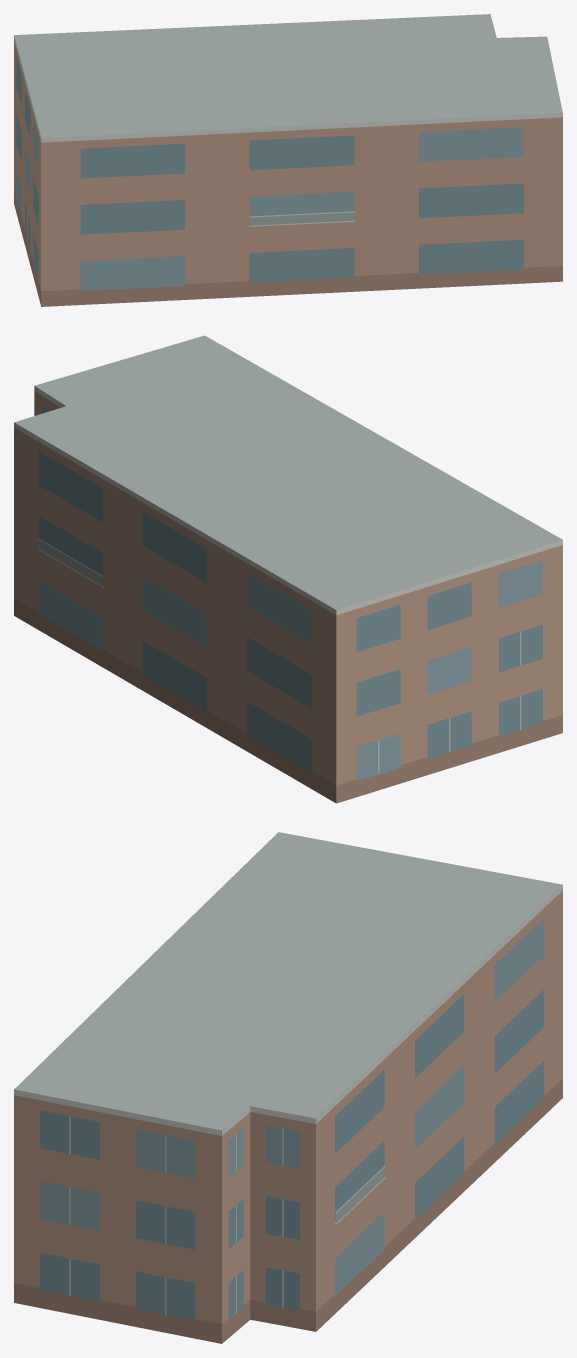
The model's file is survey-upis-32834665.glb.
The picture shows the model from 3 angles, top to bottom: view 1: azimuth 30°, elevation 25°; view 2: azimuth 150°, elevation 25°; view 3: azimuth 270°, elevation 25°; orthographic projection. The views are drawn at different scales.
Parts seen in each view (by area): view 1: survey-upis-32834665.tmp; view 2: survey-upis-32834665.tmp; view 3: survey-upis-32834665.tmp.
Boxes of the visible parts, x1,y1,x2,y2 form: survey-upis-32834665.tmp: (14,14,562,306); survey-upis-32834665.tmp: (14,335,562,803); survey-upis-32834665.tmp: (14,832,562,1343).
Bounding box in the file's own units: 27.46 × 9.15 × 21.34.
